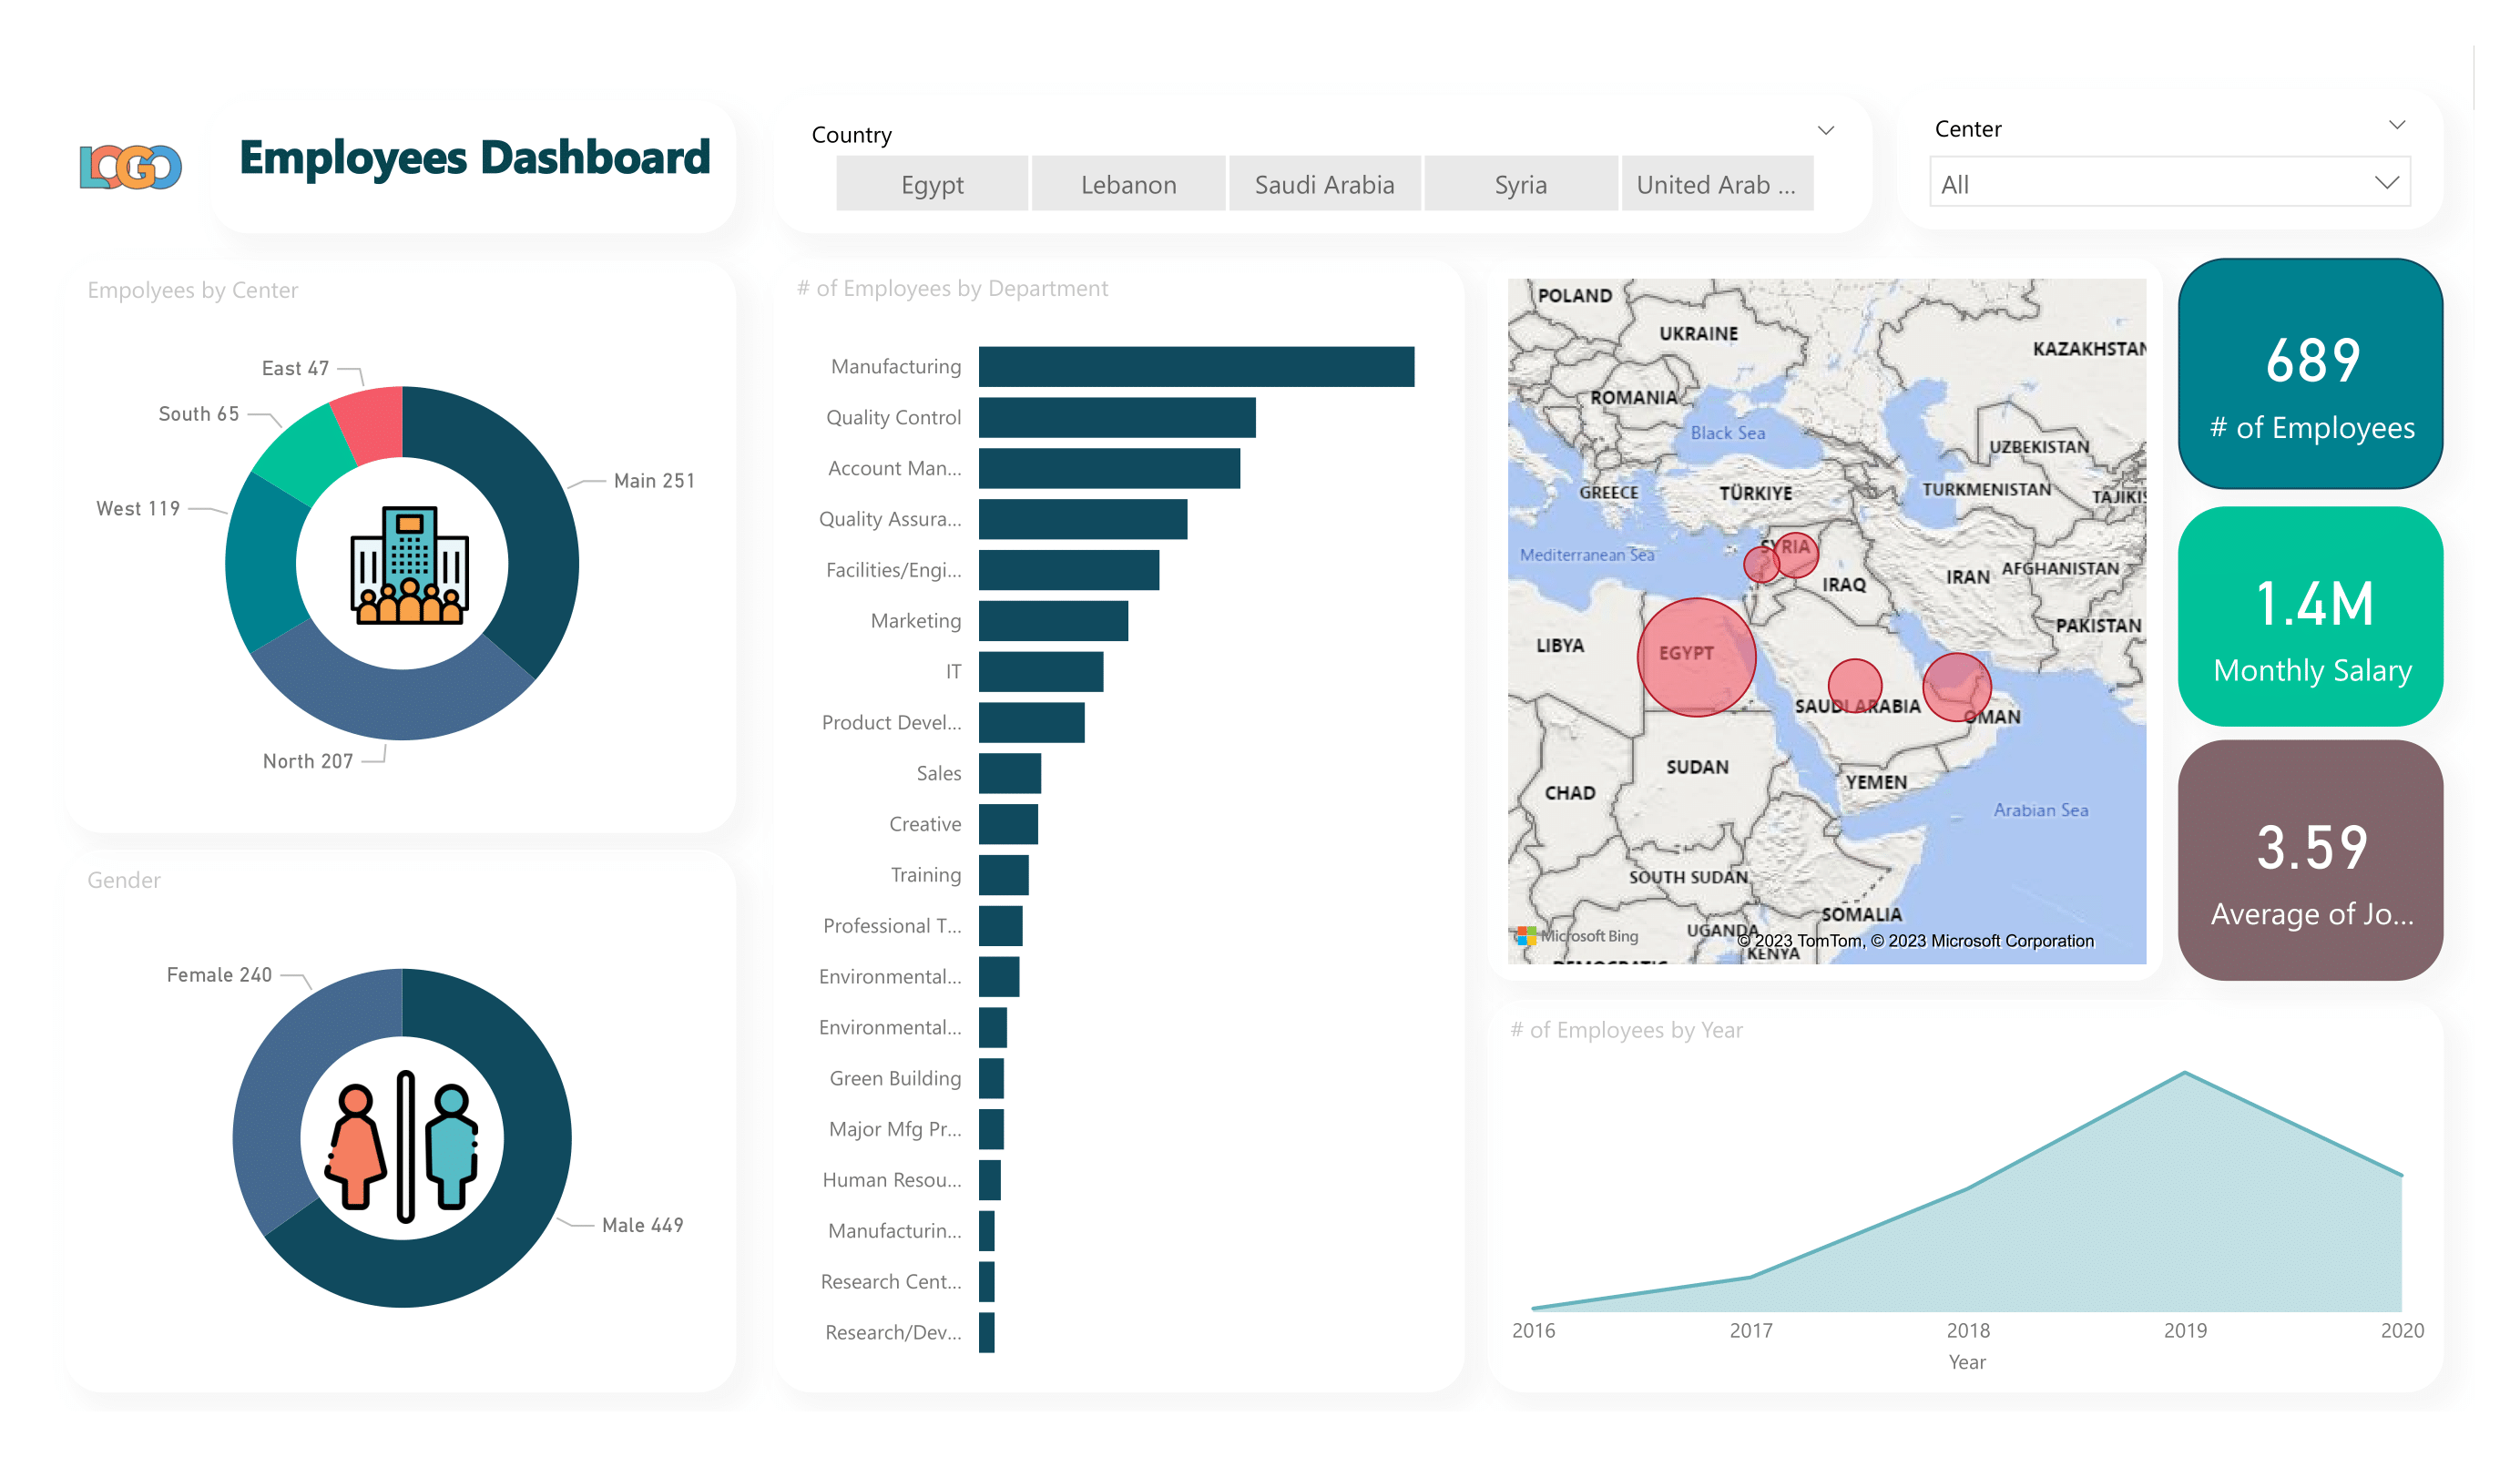

What the dashboard file says about the page in this screenshot:
{"tool":"powerbi","page":{"name":"Dashboard","canvas":[1280,720],"ordinal":0},"visuals":[{"type":"clusteredBarChart","title":"# of Employees by Department","fields":{"Category":["EmpTable.Department","EmpTable.Gender"],"Y":["CountNonNull(EmpTable.No)"]},"box":[383.7,111.6,364,598.8],"z":0},{"type":"donutChart","title":"Empolyees by Center","fields":{"Category":["EmpTable.Center"],"Y":["CountNonNull(EmpTable.No)"]},"box":[10.5,112.8,353.5,302.3],"z":1000},{"type":"donutChart","title":"Gender","fields":{"Category":["EmpTable.Gender"],"Y":["CountNonNull(EmpTable.No)"]},"box":[10.5,424.4,353.5,286],"z":2000},{"type":"map","fields":{"Category":["EmpTable.Country"],"Size":["CountNonNull(EmpTable.No)"]},"box":[760.5,111.6,355.8,381.4],"z":3000},{"type":"areaChart","title":"# of Employees by Year","fields":{"Category":["EmpTable.Start Date.Variation.Date Hierarchy.Year","EmpTable.Start Date.Variation.Date Hierarchy.Quarter","EmpTable.Start Date.Variation.Date Hierarchy.Month","EmpTable.Start Date.Variation.Date Hierarchy.Day"],"Y":["CountNonNull(EmpTable.No)"]},"box":[760.5,503.5,503.5,207],"z":4000},{"type":"card","fields":{"Values":["CountNonNull(EmpTable.No)"]},"box":[1124.4,111.6,139.5,122.1],"z":5000},{"type":"card","fields":{"Values":["Sum(EmpTable.Monthly Salary)"]},"box":[1124.4,243,139.5,116.3],"z":6000},{"type":"card","fields":{"Values":["Avg(EmpTable.Job Rate)"]},"box":[1124.4,366.3,139.5,126.7],"z":7000},{"type":"slicer","fields":{"Values":["EmpTable.Country"]},"box":[383.7,25.6,579.1,73.3],"z":8000},{"type":"slicer","fields":{"Values":["EmpTable.Center"]},"box":[975.1,23.3,299.4,72.8],"z":9000},{"type":"textbox","box":[79.1,29.1,284.9,69.8],"z":10000},{"type":"image","box":[10.5,29.1,68.6,68.6],"z":11000},{"type":"image","box":[155.8,218.6,72.1,110.5],"z":12000},{"type":"image","box":[141.9,533.7,90.7,91.9],"z":13000}]}

Visuals, with their boxes on the page's 1280x720 design canvas (x1, y1, x2, y2). These are canvas units, not pixel positions in the 2520x1457 screenshot, which may show the page scaled, cropped or inside an application window:
"# of Employees by Department" clusteredBarChart: bbox(384, 112, 748, 710)
"Empolyees by Center" donutChart: bbox(10, 113, 364, 415)
"Gender" donutChart: bbox(10, 424, 364, 710)
map - EmpTable.Country x CountNonNull(EmpTable.No): bbox(760, 112, 1116, 493)
"# of Employees by Year" areaChart: bbox(760, 504, 1264, 710)
card - CountNonNull(EmpTable.No): bbox(1124, 112, 1264, 234)
card - Sum(EmpTable.Monthly Salary): bbox(1124, 243, 1264, 359)
card - Avg(EmpTable.Job Rate): bbox(1124, 366, 1264, 493)
slicer - EmpTable.Country: bbox(384, 26, 963, 99)
slicer - EmpTable.Center: bbox(975, 23, 1274, 96)
textbox: bbox(79, 29, 364, 99)
image: bbox(10, 29, 79, 98)
image: bbox(156, 219, 228, 329)
image: bbox(142, 534, 233, 626)
